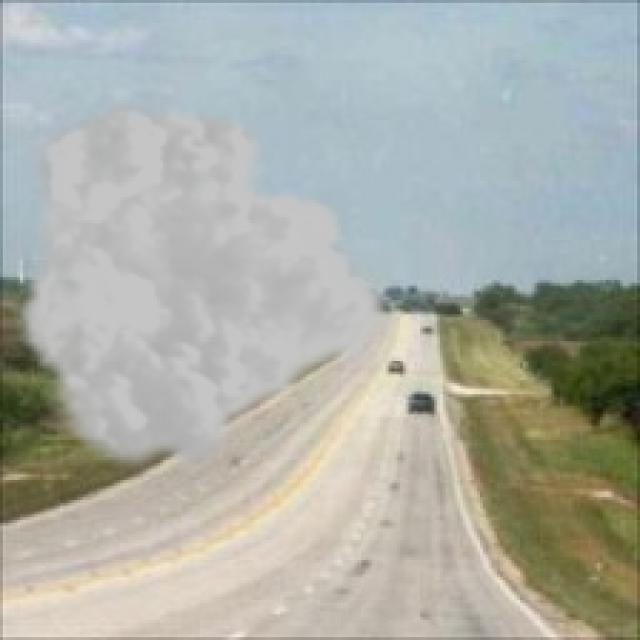smoke: (14, 94, 400, 480)
